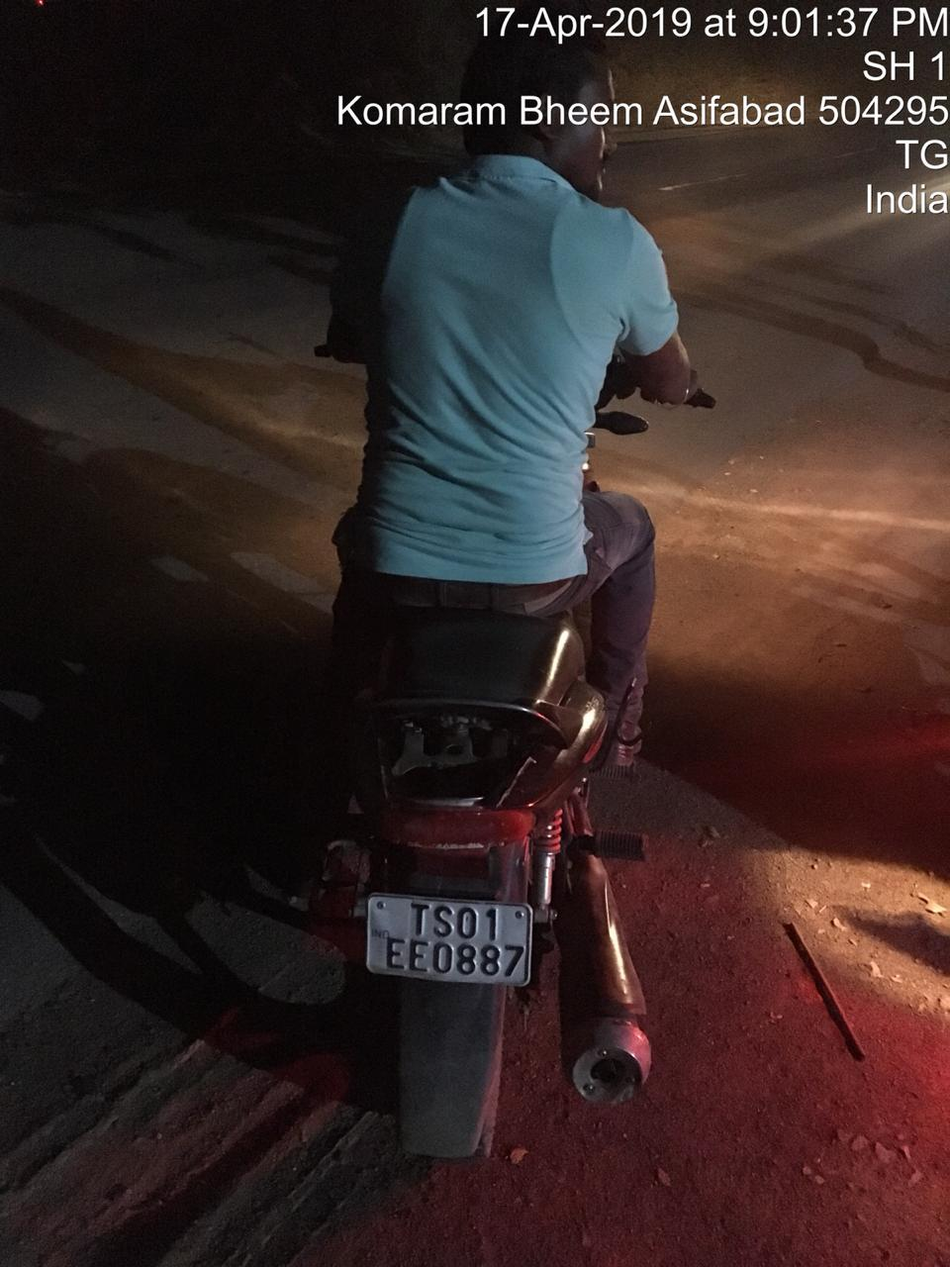plate: (342, 874, 572, 1020)
